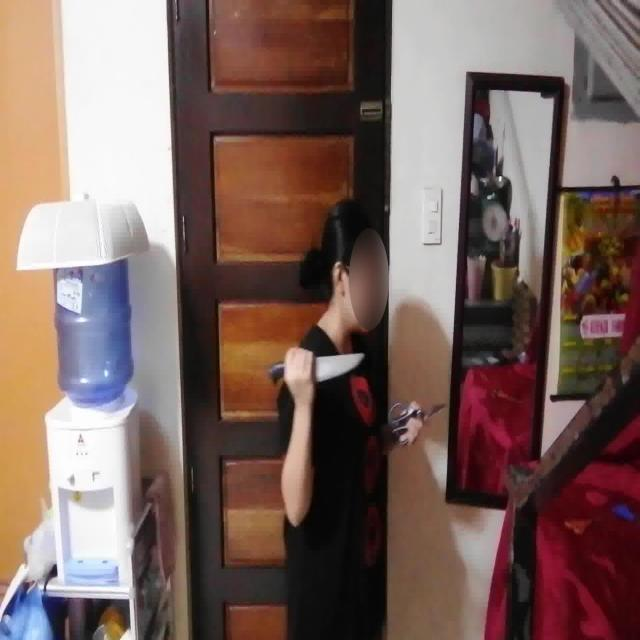scissor: (388, 398, 447, 448)
